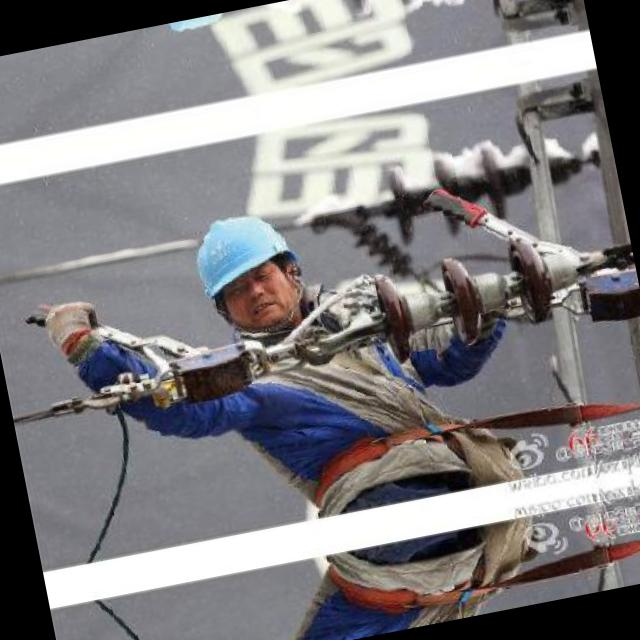helmet: (176, 194, 316, 348)
